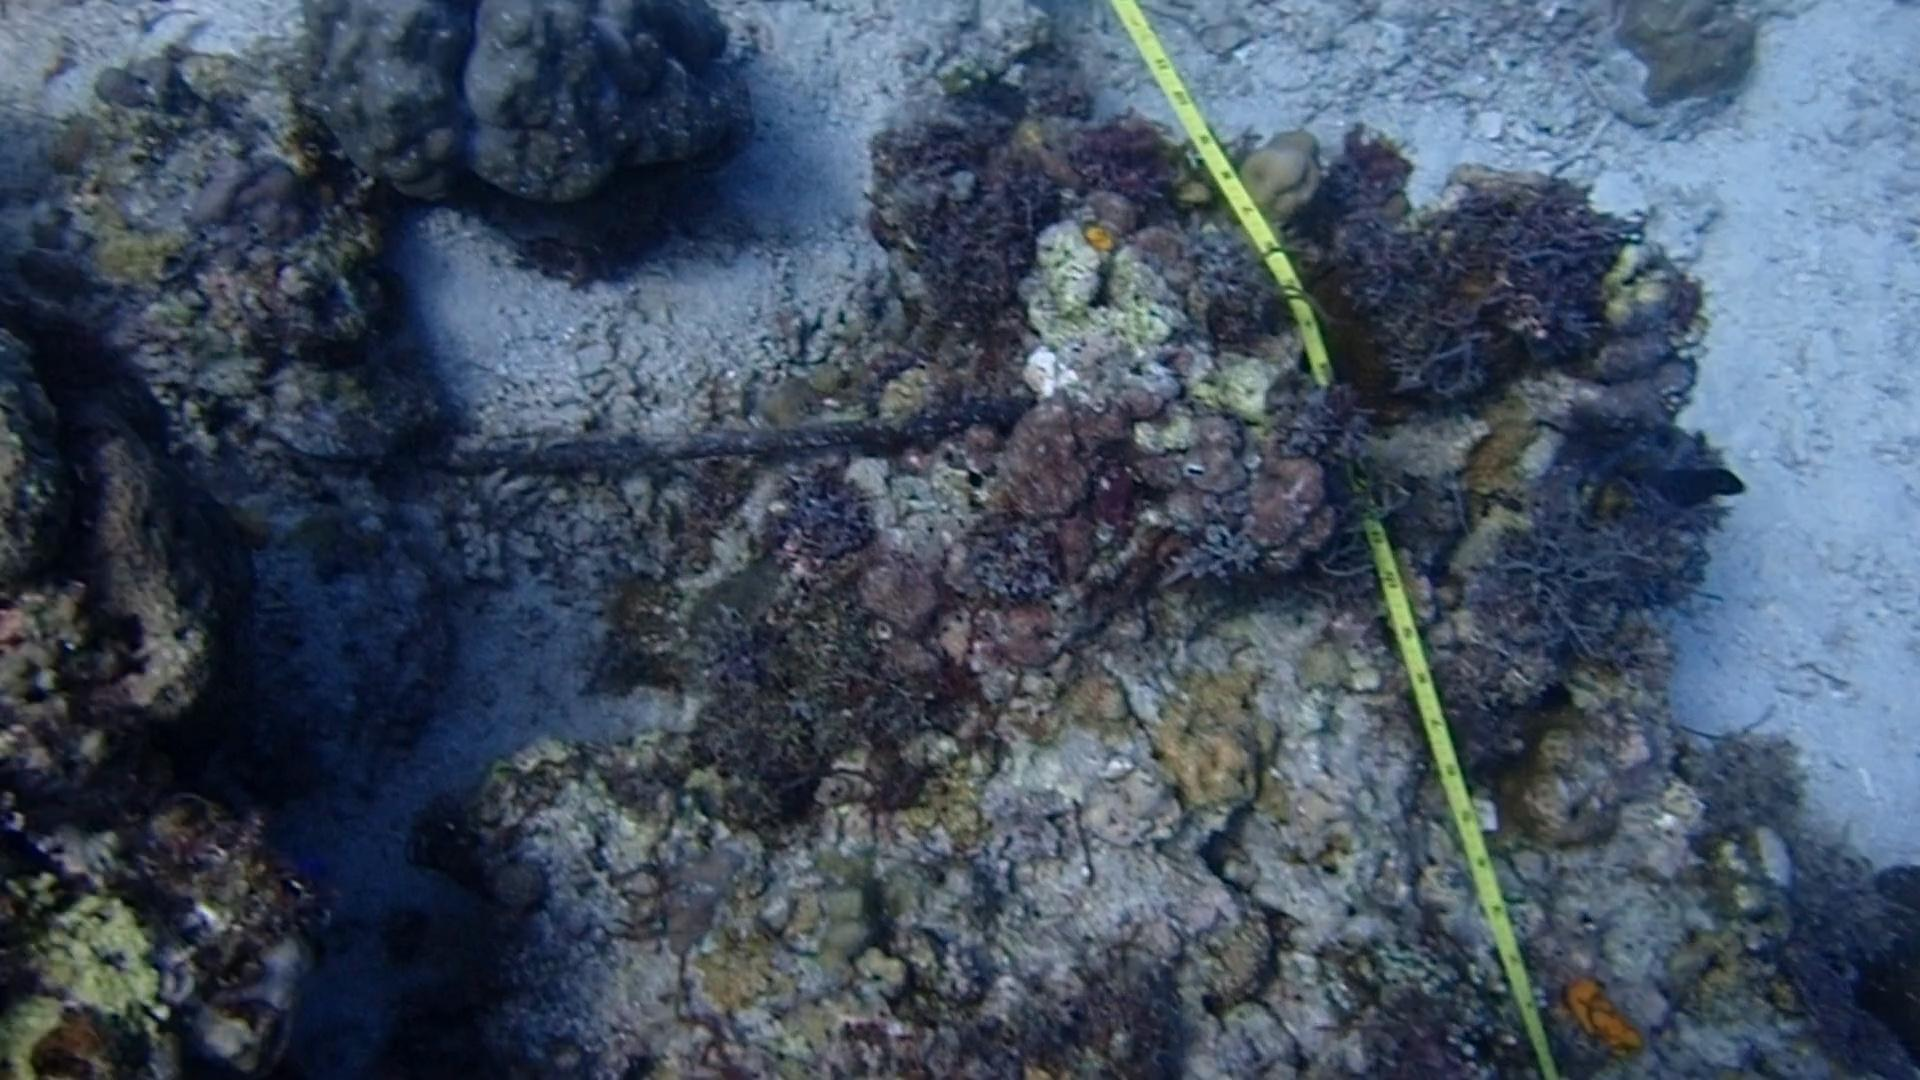Dark Fish: (1629, 443, 1754, 537)
